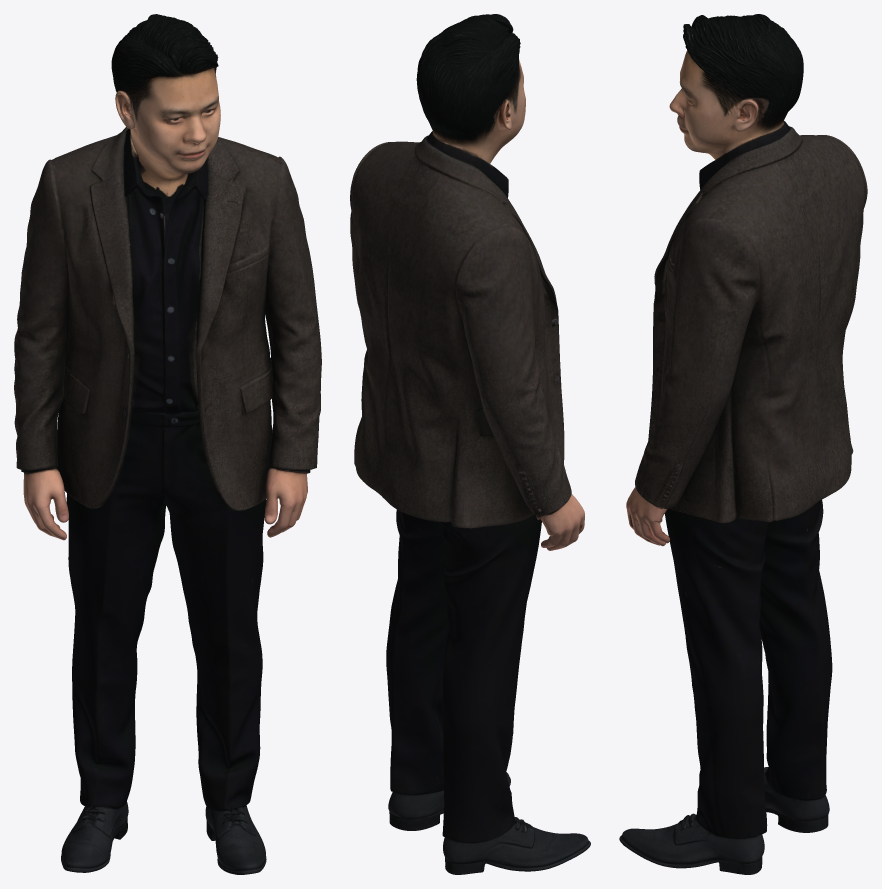
File: zairul.glb
3 renders of one model, left to right at view 1: azimuth 30°, elevation 25°; view 2: azimuth 150°, elevation 25°; view 3: azimuth 270°, elevation 25°, orthographic.
Bounding box in the file's own units: 0.6147 × 1.9 × 0.5204.
Materials: 1 (1 with a texture image).
